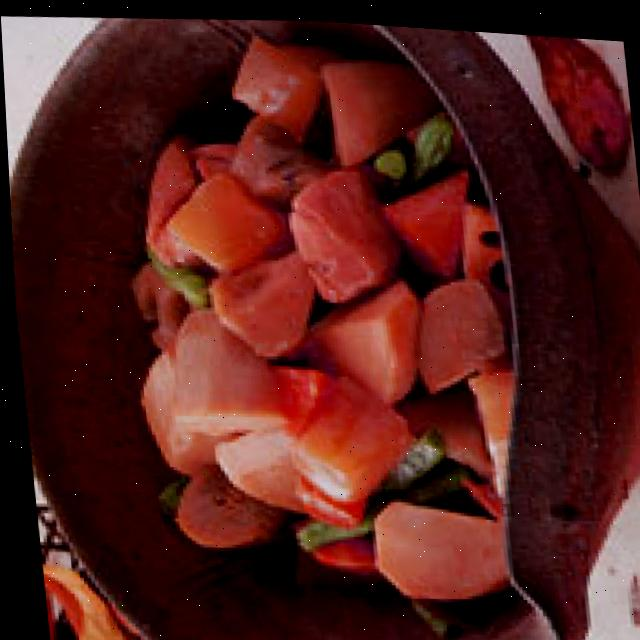鸡肉料理 含炸鸡: (50, 13, 541, 640)
